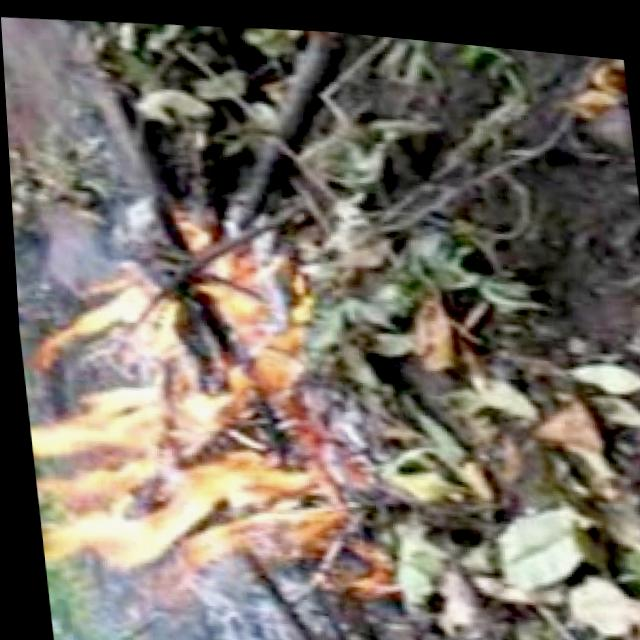Fire: (8, 178, 391, 626)
